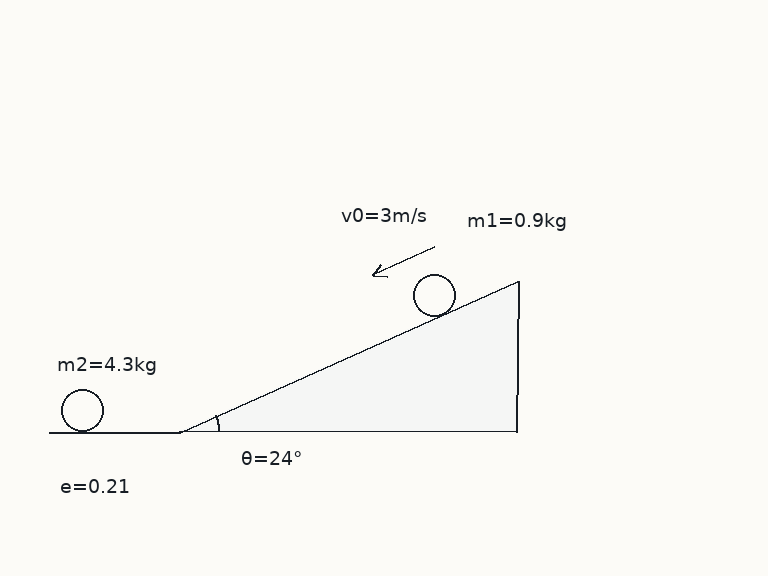ball: (411, 272, 457, 318), (59, 387, 105, 433)
ramp: (177, 279, 519, 433)
